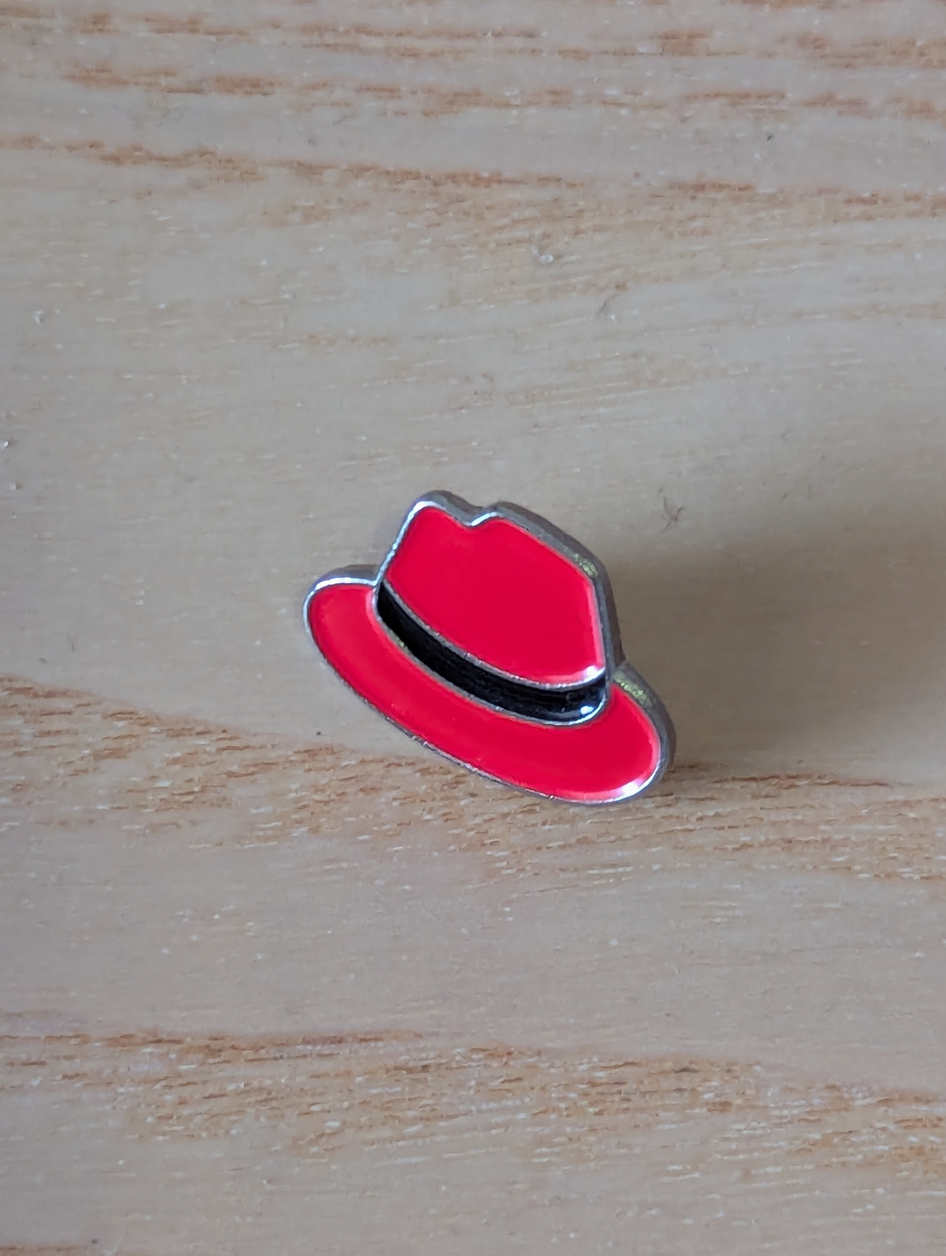Red-Hat: (180, 383, 864, 929)
